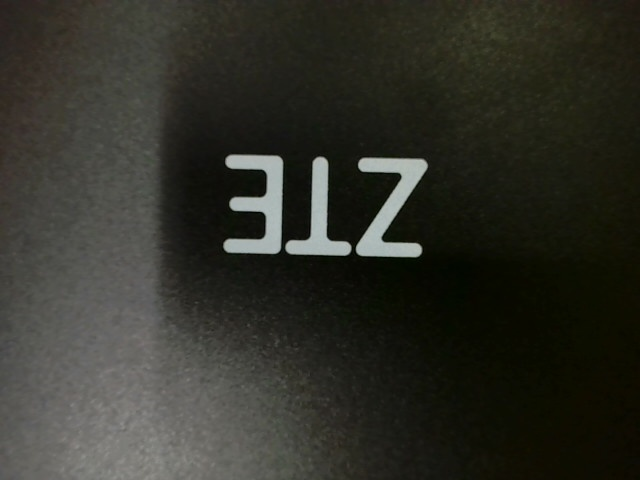AN_ZTE: (211, 143, 433, 269)
